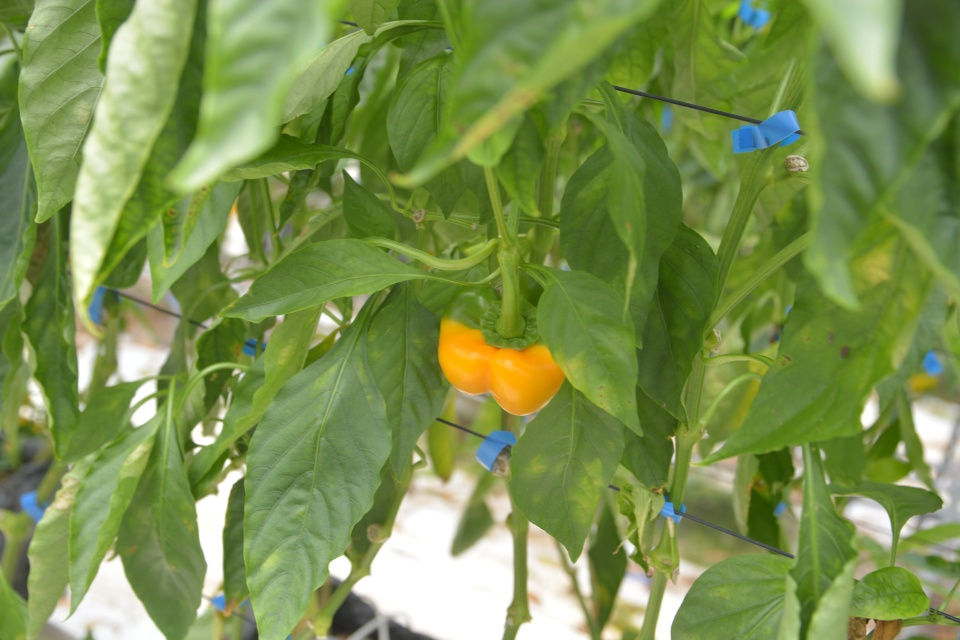fruit: (436, 268, 566, 417)
pedicle: (478, 295, 539, 352)
